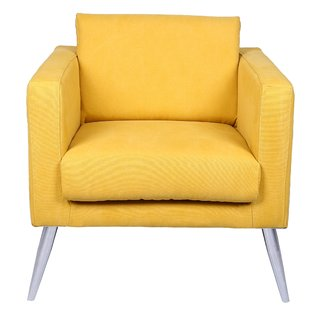chairs: (24, 13, 296, 301)
